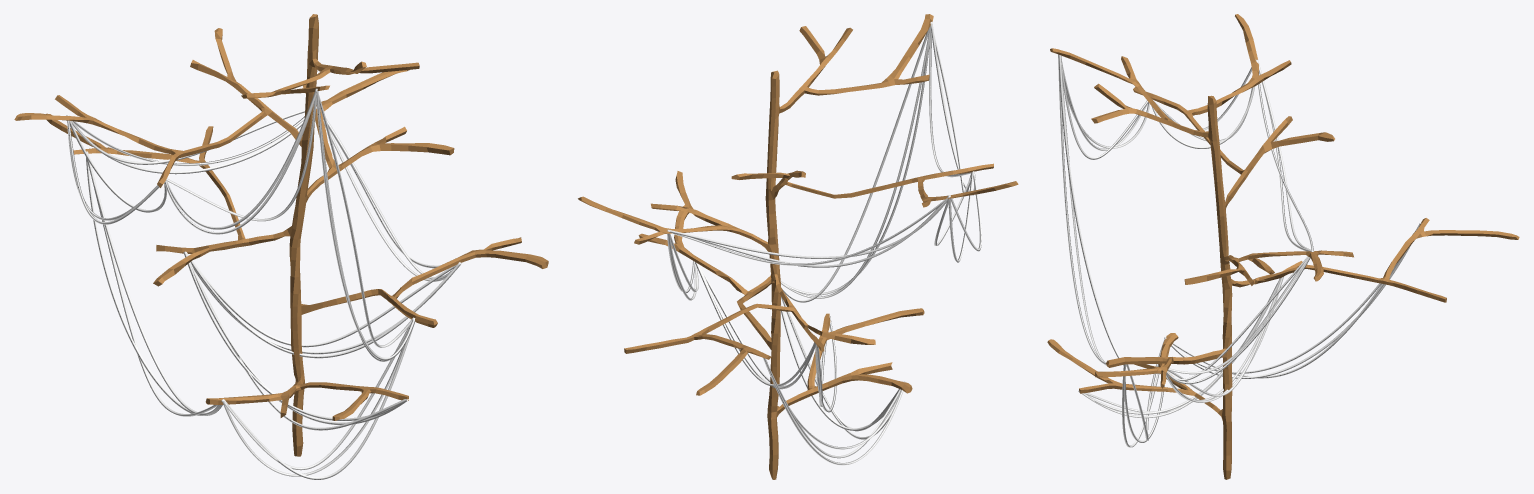
Rendered from DigitalTreeNaked.glb.
3 views of the same model, side by side, from view 1: azimuth 30°, elevation 25°; view 2: azimuth 150°, elevation 25°; view 3: azimuth 270°, elevation 25° (orthographic). The views are drawn at different scales.
Visible parts, largest first — view 1: Retopo_TRONC.001, GeoCablesNaked; view 2: Retopo_TRONC.001, GeoCablesNaked; view 3: Retopo_TRONC.001, GeoCablesNaked.
Part boxes in pixels (x1=…): Retopo_TRONC.001: x1=14, y1=14, x2=548, y2=456; GeoCablesNaked: x1=66, y1=88, x2=461, y2=479; Retopo_TRONC.001: x1=578, y1=14, x2=1018, y2=479; GeoCablesNaked: x1=667, y1=22, x2=981, y2=465; Retopo_TRONC.001: x1=1047, y1=14, x2=1519, y2=479; GeoCablesNaked: x1=1058, y1=54, x2=1421, y2=447.
Size of the model in its own units: 25.64 by 24.33 by 26.04.
Materials: 2 (1 with a texture image).
